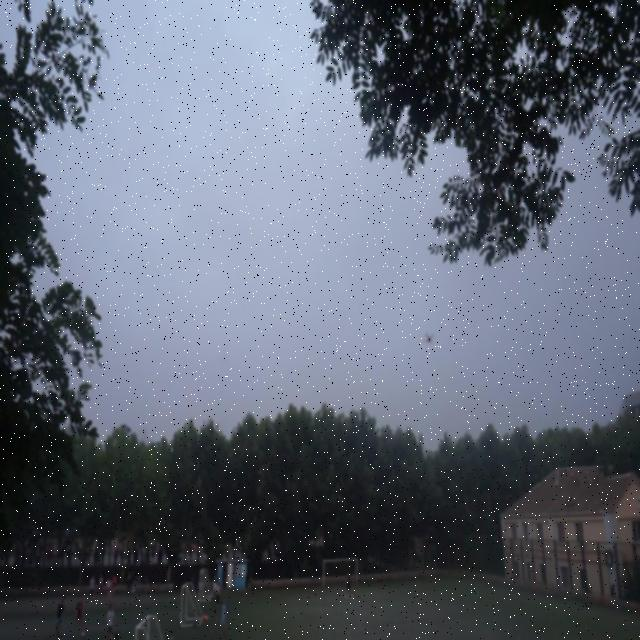UAV: (423, 332, 435, 345)
